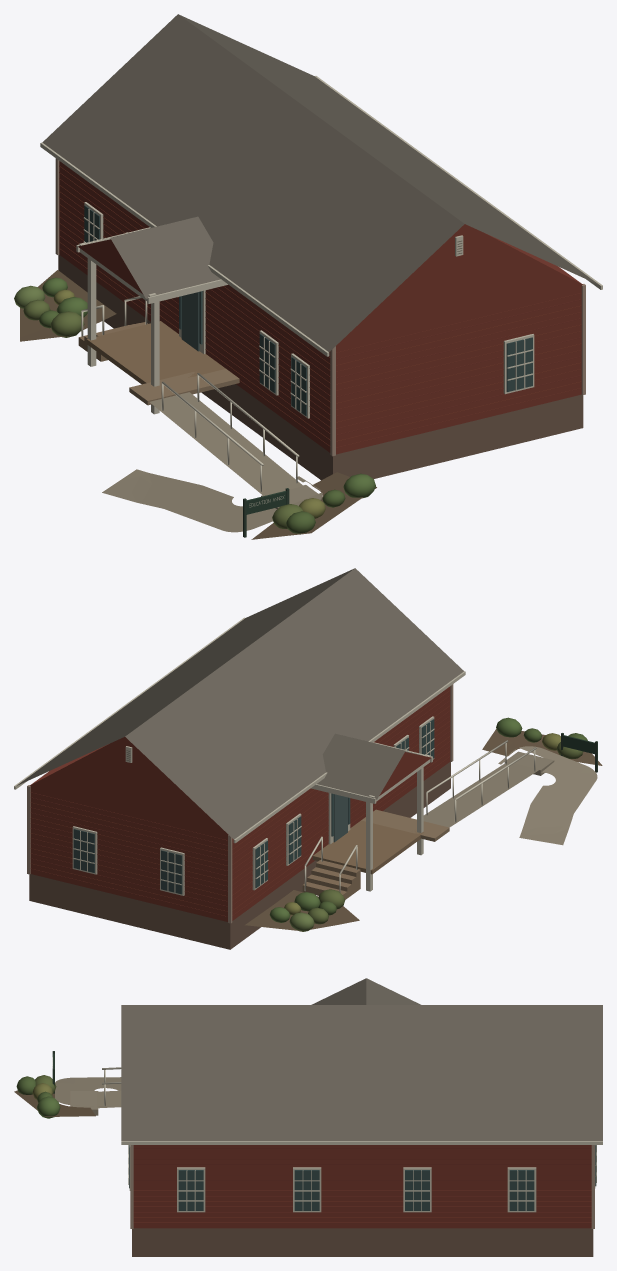
File: site.glb
The picture shows the model from 3 angles, top to bottom: view 1: azimuth 30°, elevation 25°; view 2: azimuth 150°, elevation 25°; view 3: azimuth 270°, elevation 25°; orthographic projection. The views are drawn at different scales.
Visible parts, largest first — view 1: uo-education-annex, education-annex-approach, education-annex-sign-and-planting; view 2: uo-education-annex, education-annex-approach, education-annex-sign-and-planting; view 3: uo-education-annex, education-annex-approach, education-annex-sign-and-planting.
Part boxes in pixels (<box>): uo-education-annex: <box>40,14,602,491</box>; education-annex-approach: <box>20,270,376,539</box>; education-annex-sign-and-planting: <box>14,277,375,537</box>; uo-education-annex: <box>14,568,536,949</box>; education-annex-approach: <box>245,729,602,931</box>; education-annex-sign-and-planting: <box>269,717,597,931</box>; uo-education-annex: <box>102,978,602,1256</box>; education-annex-approach: <box>14,1077,121,1116</box>; education-annex-sign-and-planting: <box>16,1051,60,1118</box>.
Bounding box in the file's own units: 15.01 × 7.63 × 20.29.
